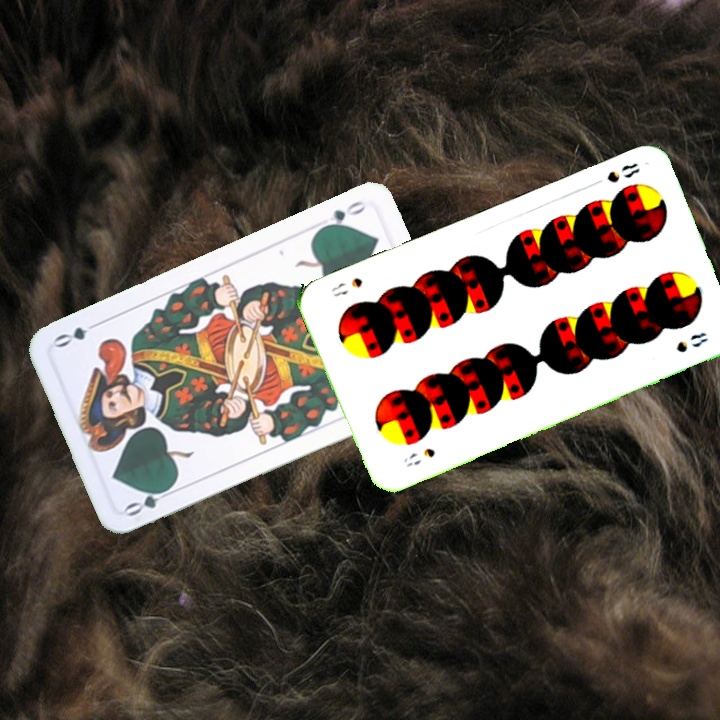GO: (121, 480, 178, 519), (314, 196, 369, 233)
S8: (587, 158, 643, 189), (399, 444, 438, 470)
